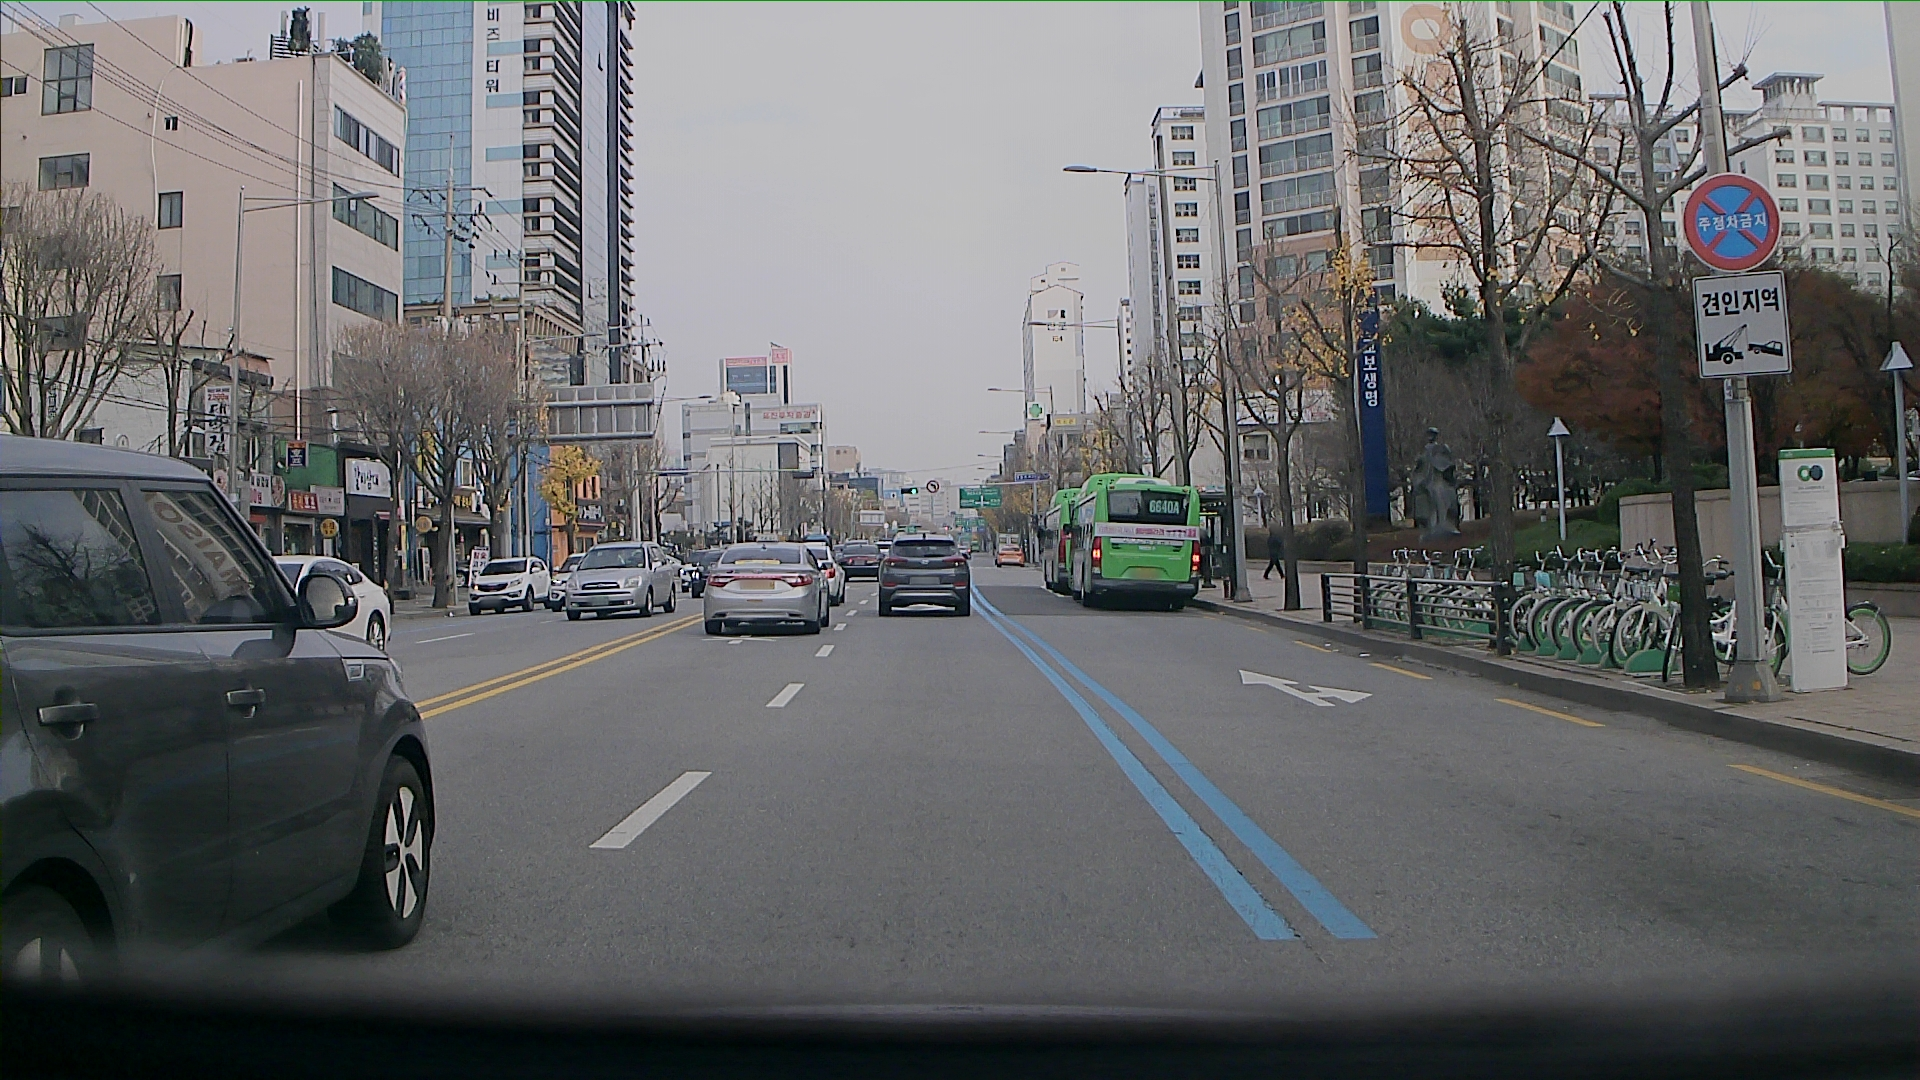trafficLight: (899, 485, 918, 497)
trafficSignCircle: (1681, 171, 1782, 272), (928, 481, 938, 493)
